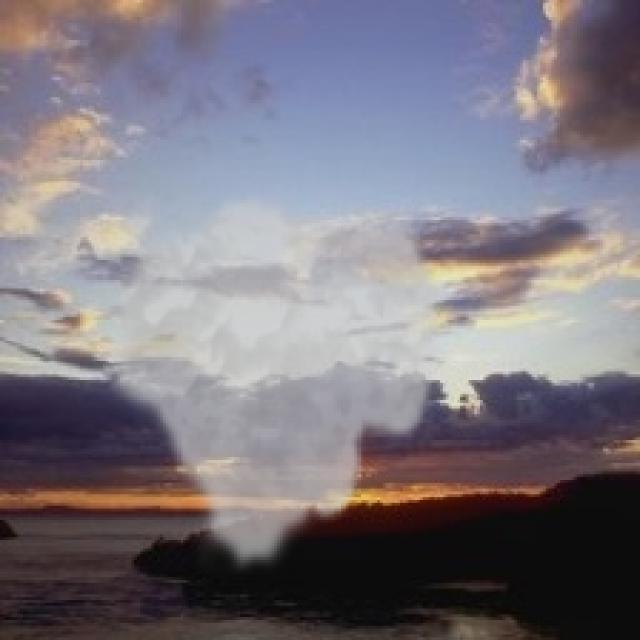smoke: (100, 192, 449, 574)
